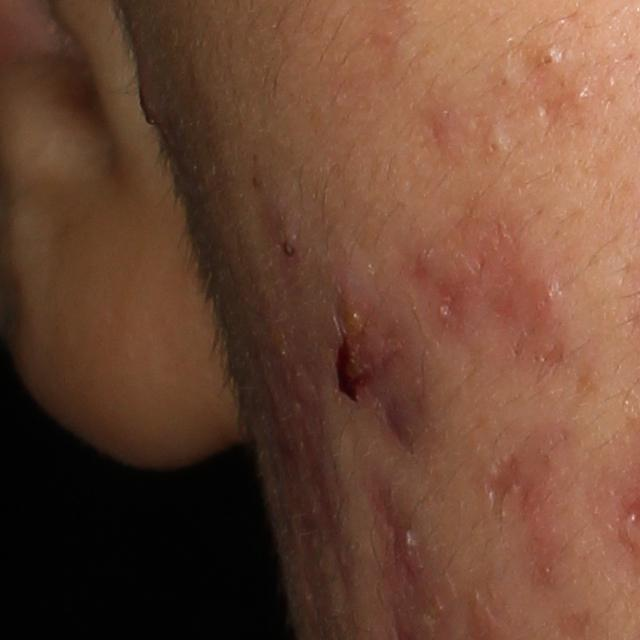atrophic_scar: (395, 197, 564, 351), (479, 440, 531, 523), (500, 36, 563, 101), (531, 84, 601, 130)
comedo: (479, 122, 518, 166), (537, 41, 569, 75)
nodule: (327, 246, 430, 451)
